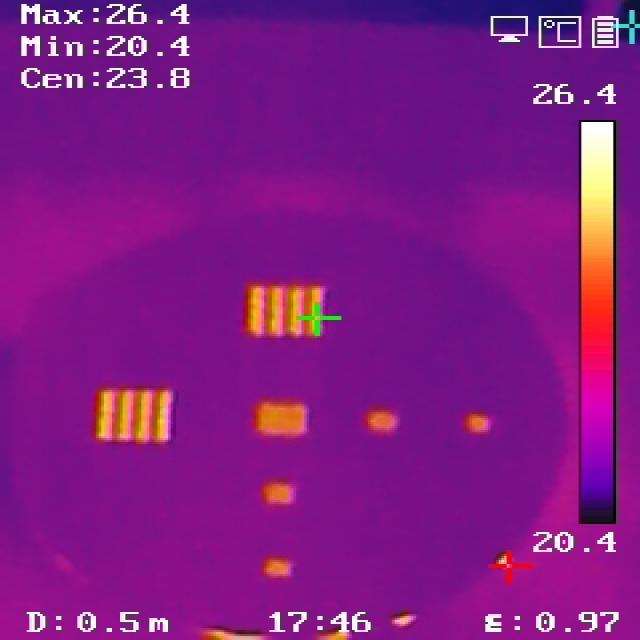Distinguishable 4-bar target: (94, 390, 174, 447), (246, 283, 322, 335)
Indistinguishable 4-bar target: (253, 403, 308, 439)
